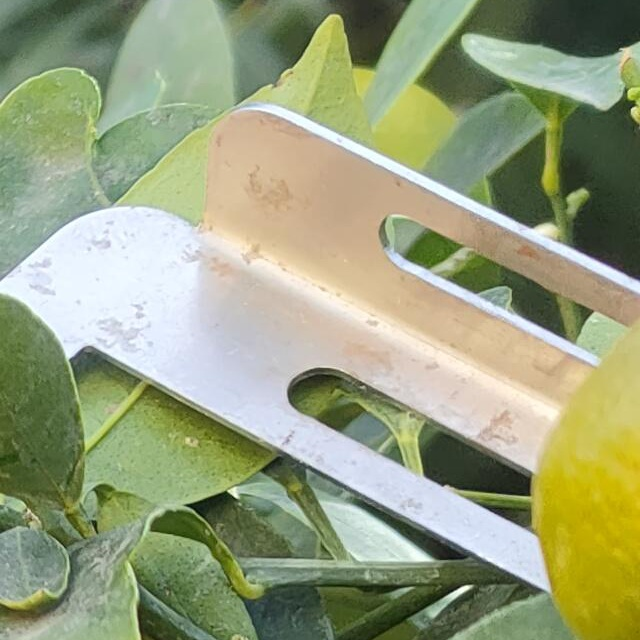orange: (509, 287, 639, 640)
